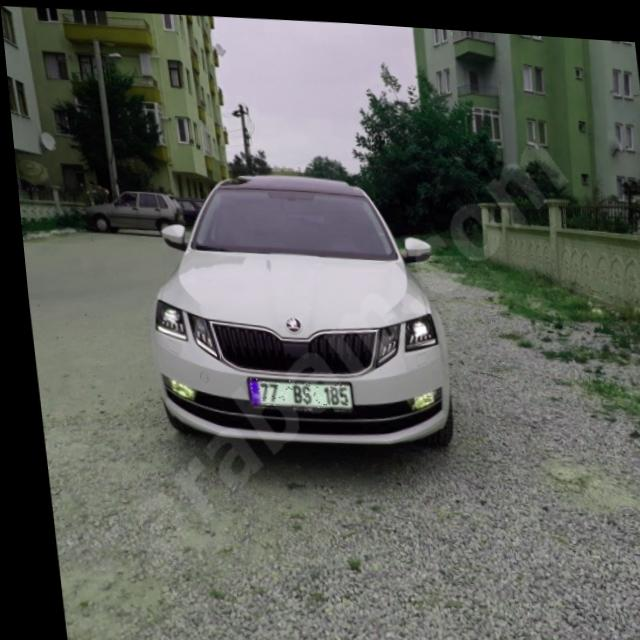license_plate: (241, 373, 345, 407)
